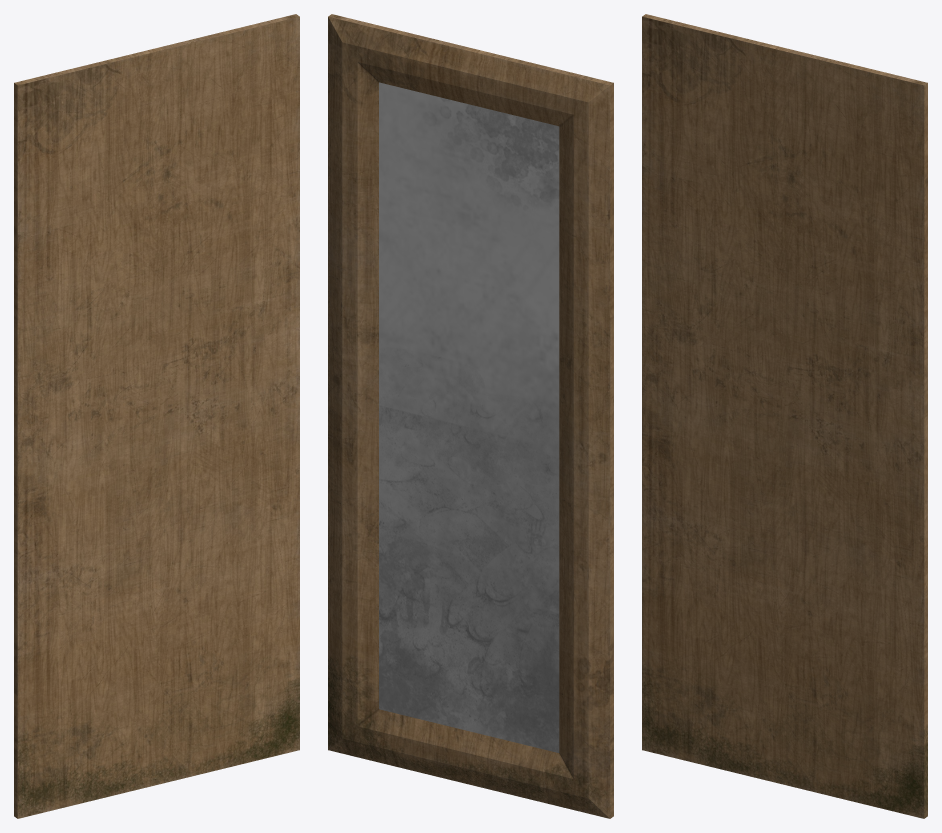
File: old_mirror.glb
3 renders of one model, left to right at view 1: azimuth 30°, elevation 25°; view 2: azimuth 150°, elevation 25°; view 3: azimuth 330°, elevation 25°, orthographic.
Visible parts, largest first — view 1: Box002; view 2: Box002 (×2); view 3: Box002.
Boxes of the visible parts, <box> form: Box002: <box>14,14,299,818</box>; Box002 (×2): <box>328,14,613,818</box>; Box002: <box>642,14,927,818</box>.
Size of the model in its own units: 0.805 by 2 by 0.0359.
2 materials, 2 textured.
